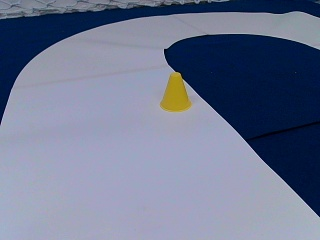cone: (160, 73, 190, 111)
